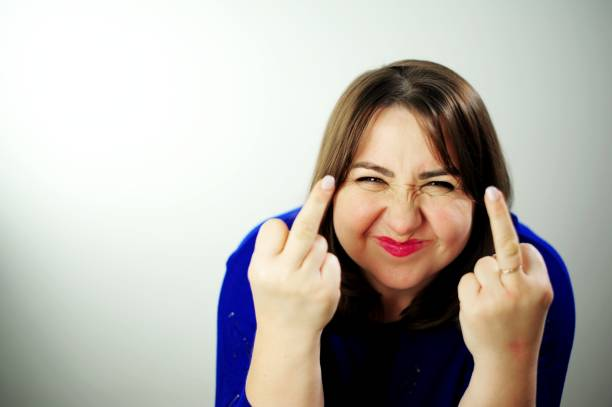insulting_gesture: (458, 181, 552, 355), (246, 174, 342, 327)
